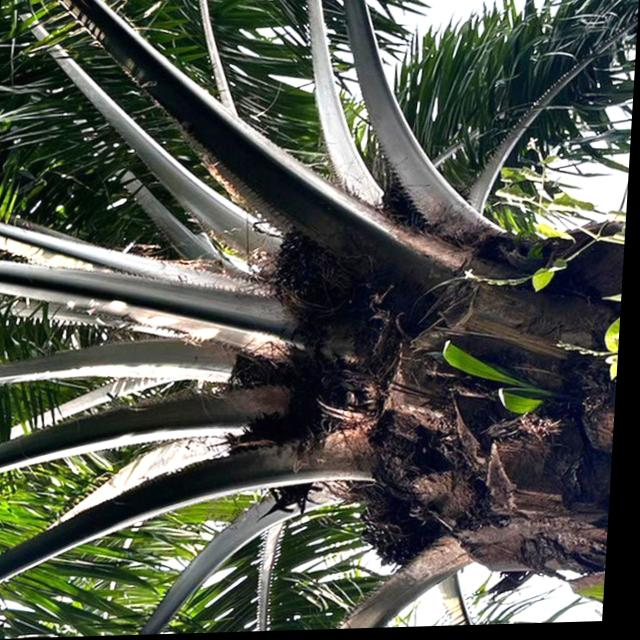unripe: (264, 210, 389, 330), (352, 481, 455, 581)
